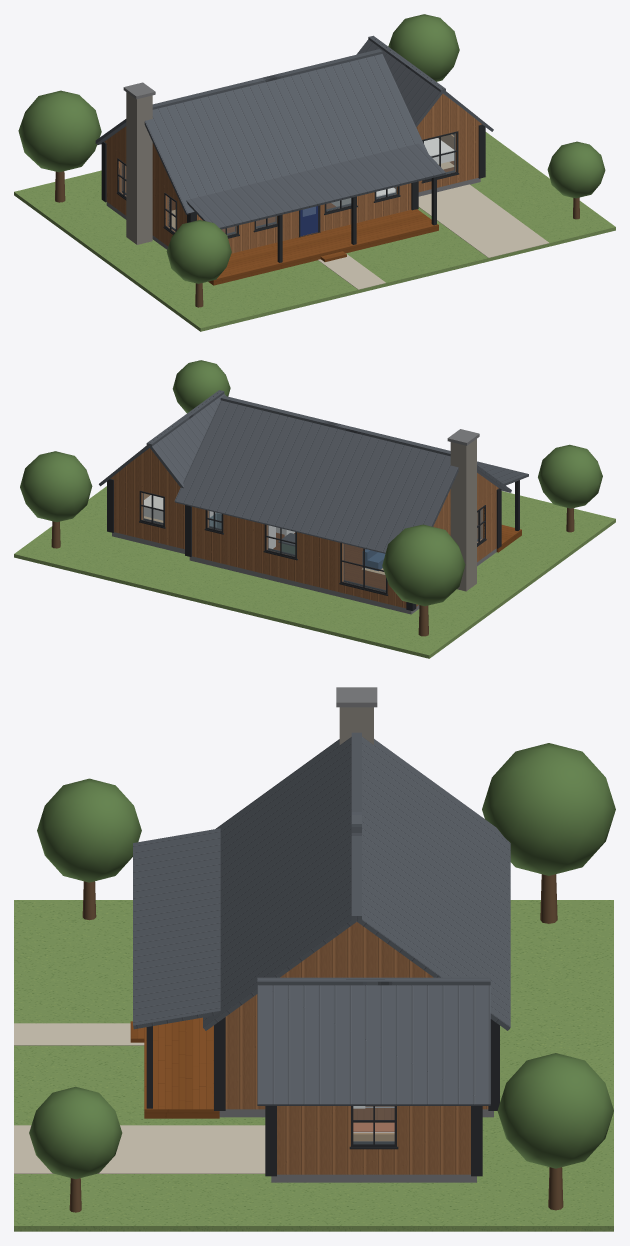
Rendered from farmhouse-cedar.glb.
3 renders of one model, top to bottom at view 1: azimuth 30°, elevation 25°; view 2: azimuth 150°, elevation 25°; view 3: azimuth 270°, elevation 25°, orthographic. The views are drawn at different scales.
Parts seen in each view (by area): view 1: roof-roof, lawn, leaves, siding, deck, gravel, stone, roof-siding, trim, glass, frame, foundation (+3 smaller); view 2: roof-roof, lawn, leaves, siding, stone, glass, roof-siding, foundation, frame, trim, wood, trunk; view 3: roof-roof, lawn, leaves, siding, gravel, deck, roof-siding, trim, foundation, trunk, glass, stone.
Part boxes in pixels (<box>): roof-roof: <box>95,35,493,229</box>; lawn: <box>14,132,615,331</box>; leaves: <box>18,14,605,283</box>; siding: <box>106,125,478,253</box>; deck: <box>208,209,438,285</box>; gravel: <box>318,184,549,289</box>; stone: <box>126,92,152,244</box>; roof-siding: <box>104,94,481,194</box>; trim: <box>101,124,485,262</box>; glass: <box>120,133,455,235</box>; frame: <box>117,131,458,237</box>; foundation: <box>106,82,480,249</box>; roof-roof: <box>99,390,528,553</box>; lawn: <box>14,486,615,658</box>; leaves: <box>20,360,602,606</box>; siding: <box>114,480,496,608</box>; stone: <box>450,439,476,591</box>; glass: <box>142,493,482,591</box>; roof-siding: <box>110,448,498,529</box>; foundation: <box>112,429,496,614</box>; frame: <box>139,490,485,594</box>; trim: <box>107,479,519,610</box>; wood: <box>273,532,385,589</box>; trunk: <box>51,508,574,636</box>; roof-roof: <box>133,732,510,1105</box>; lawn: <box>14,900,613,1231</box>; leaves: <box>29,743,615,1179</box>; siding: <box>225,1016,488,1174</box>; gravel: <box>14,1023,265,1173</box>; deck: <box>130,1017,219,1118</box>; roof-siding: <box>227,922,433,1016</box>; trim: <box>146,1017,499,1176</box>; foundation: <box>219,687,493,1182</box>; trunk: <box>69,874,563,1212</box>; glass: <box>353,1106,394,1143</box>; stone: <box>339,707,373,744</box>.
Bounding box in the file's own units: 0.4691 × 0.1586 × 0.3511.
Materials: 34 (8 with a texture image).
